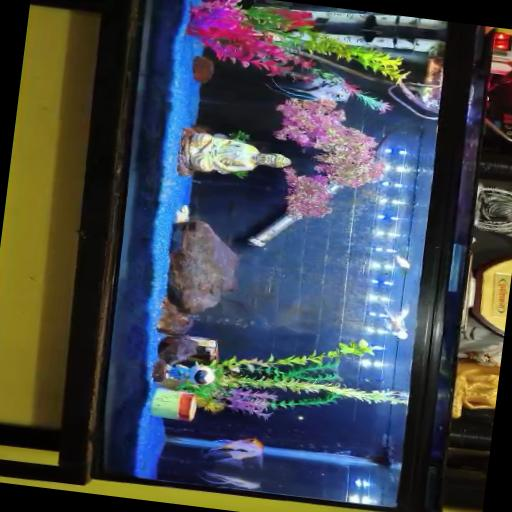Fish: (200, 437, 262, 489), (267, 76, 348, 100), (203, 437, 262, 466), (202, 471, 259, 489), (383, 305, 408, 339), (175, 205, 189, 221), (395, 254, 409, 268)
